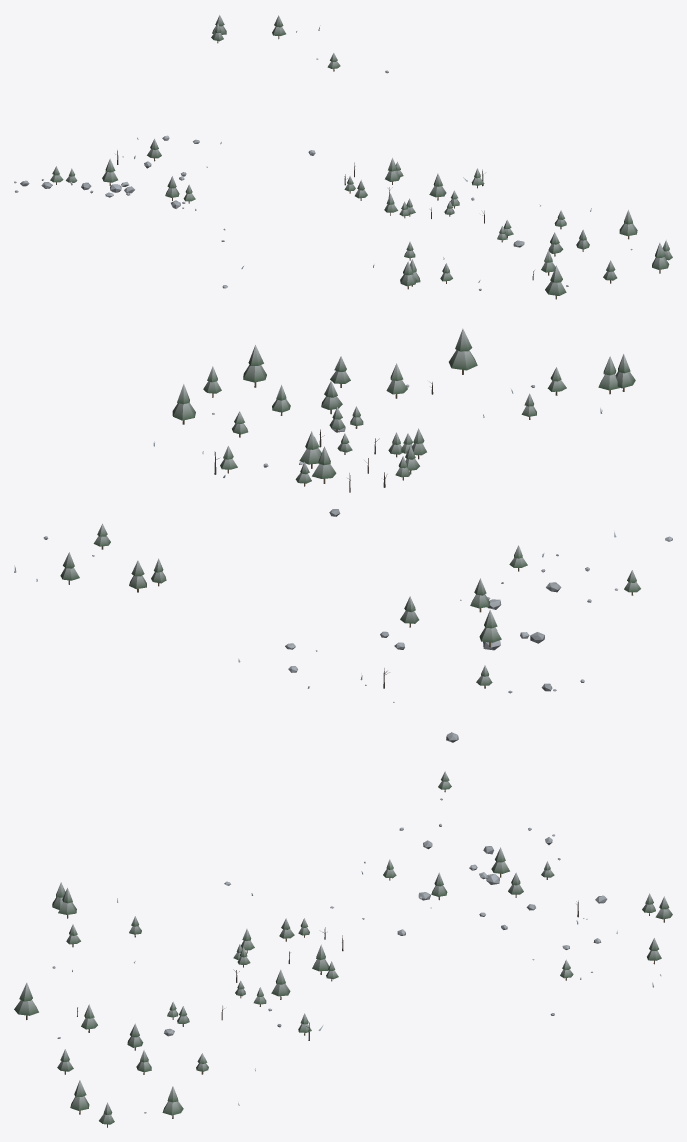
File: frost_land_scatter_c17_09_lod1.glb
The picture shows the model from 3 angles, top to bottom: view 1: azimuth 30°, elevation 25°; view 2: azimuth 150°, elevation 25°; view 3: azimuth 270°, elevation 25°; orthographic projection. The views are drawn at different scales.
Parts seen in each view (by area): view 1: frost_land_scatter_c17_09_lod1; view 2: frost_land_scatter_c17_09_lod1; view 3: frost_land_scatter_c17_09_lod1.
Part boxes in pixels (x1=…): frost_land_scatter_c17_09_lod1: x1=14, y1=15, x2=672, y2=299; frost_land_scatter_c17_09_lod1: x1=14, y1=328, x2=672, y2=742; frost_land_scatter_c17_09_lod1: x1=14, y1=771, x2=672, y2=1127.
Size of the model in its own units: 239 by 54.96 by 262.
